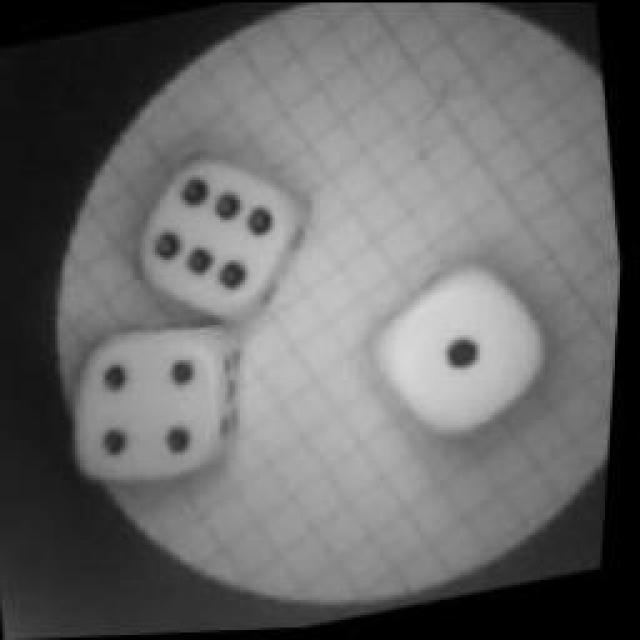dice_1: (356, 252, 562, 448)
dice_4: (62, 309, 256, 509)
dice_6: (116, 132, 316, 332)
